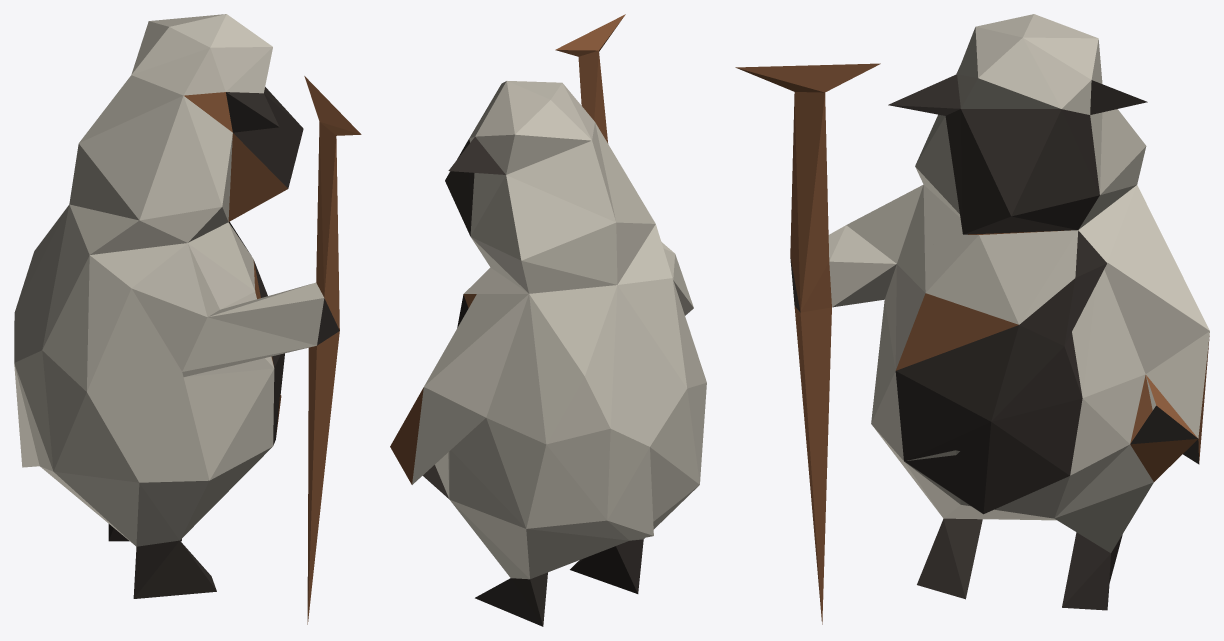
3 renders of one model, left to right at view 1: azimuth 30°, elevation 25°; view 2: azimuth 150°, elevation 25°; view 3: azimuth 270°, elevation 25°, orthographic. The views are drawn at different scales.
Parts seen in each view (by area): view 1: lion-200; view 2: lion-200; view 3: lion-200.
Part boxes in pixels (x1,y1,x2,y2): lion-200: (14, 14, 361, 624); lion-200: (390, 14, 706, 626); lion-200: (735, 14, 1209, 624).
Size of the model in its own units: 0.5091 by 1.01 by 0.7306.
